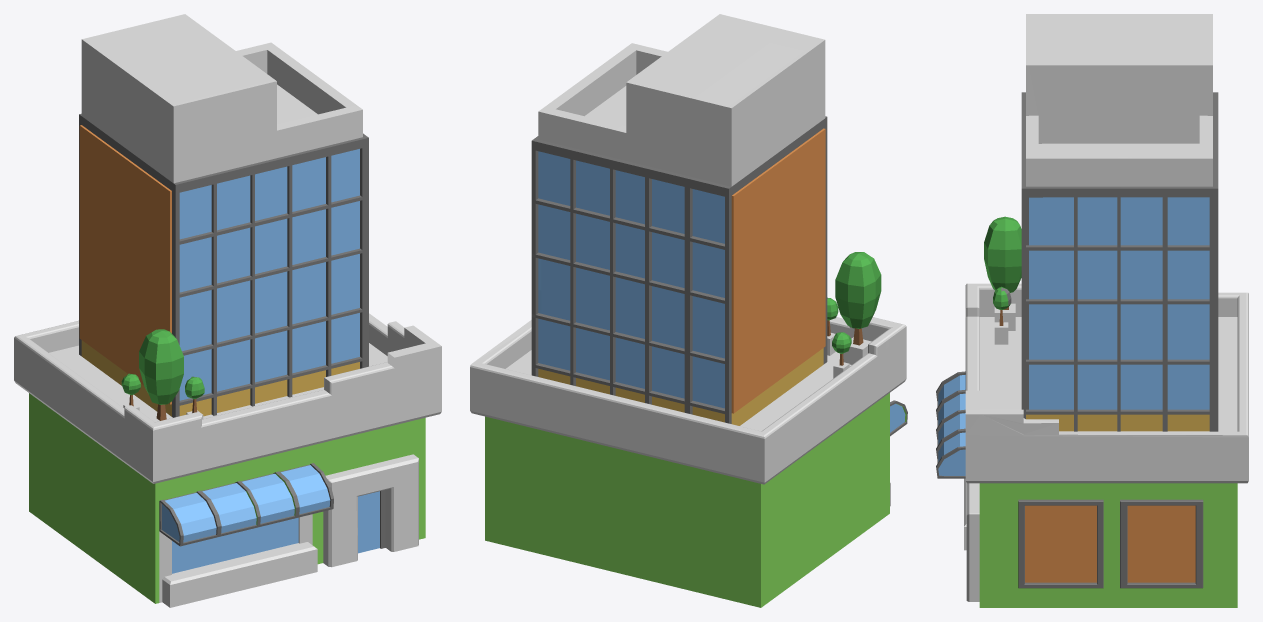
Rendered from Entorno_Edificio_01_LowPoly_MacarenaMaidana.fbx.
3 views of the same model, side by side, from view 1: azimuth 30°, elevation 25°; view 2: azimuth 150°, elevation 25°; view 3: azimuth 270°, elevation 25° (orthographic). The views are drawn at different scales.
Visible parts, largest first — view 1: Cube; view 2: Cube; view 3: Cube.
Boxes of the visible parts, <box> form: Cube: <box>14,14,441,607</box>; Cube: <box>470,14,907,607</box>; Cube: <box>936,14,1248,607</box>.
Bounding box in the file's own units: 2800 × 4363 × 2577.
